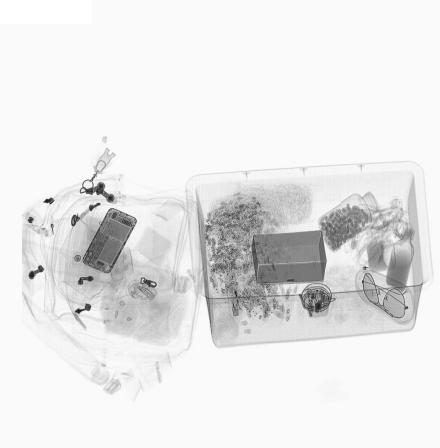Lighter: (225, 271, 242, 316)
